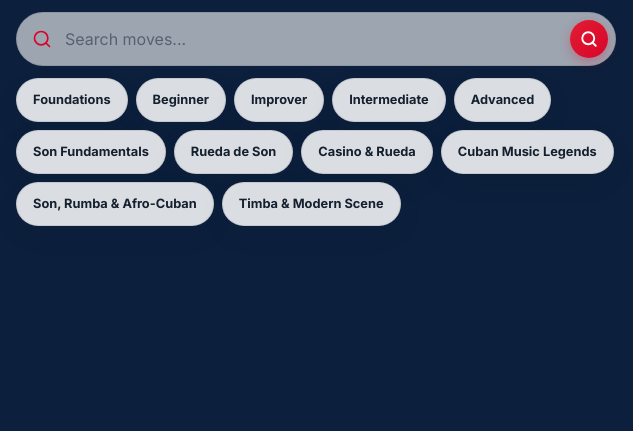
Scenario: SearchBar › shows results when typing a known move name
Type "Dile Que No" into the search field with placeholder "Search moves..." at (316, 39), box [16,12,616,66]
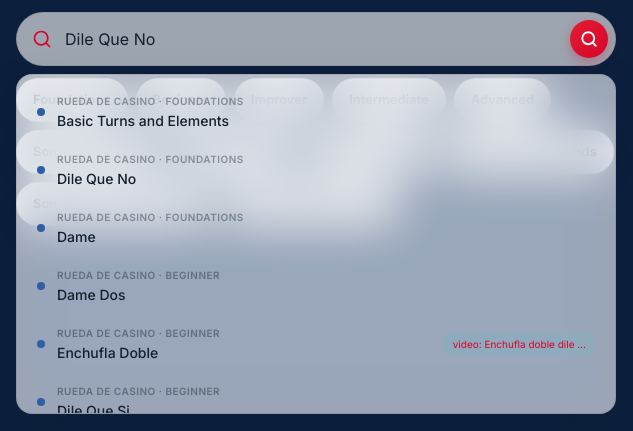
Result: the list is shown
